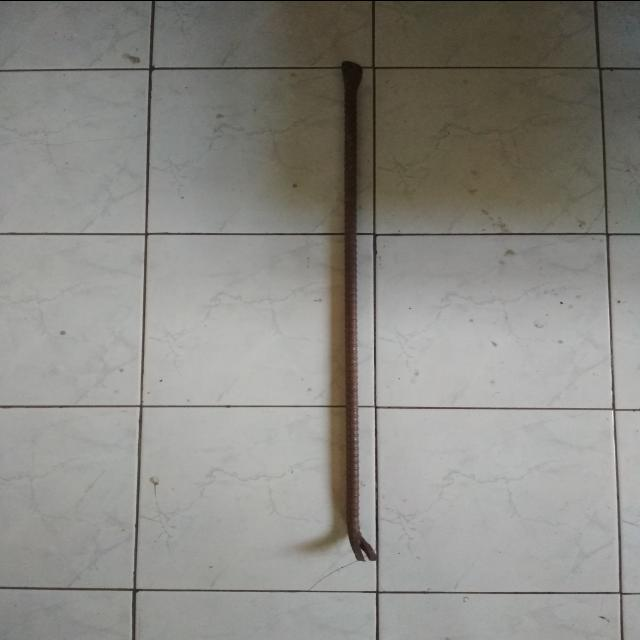Linggis: (331, 60, 383, 563)
